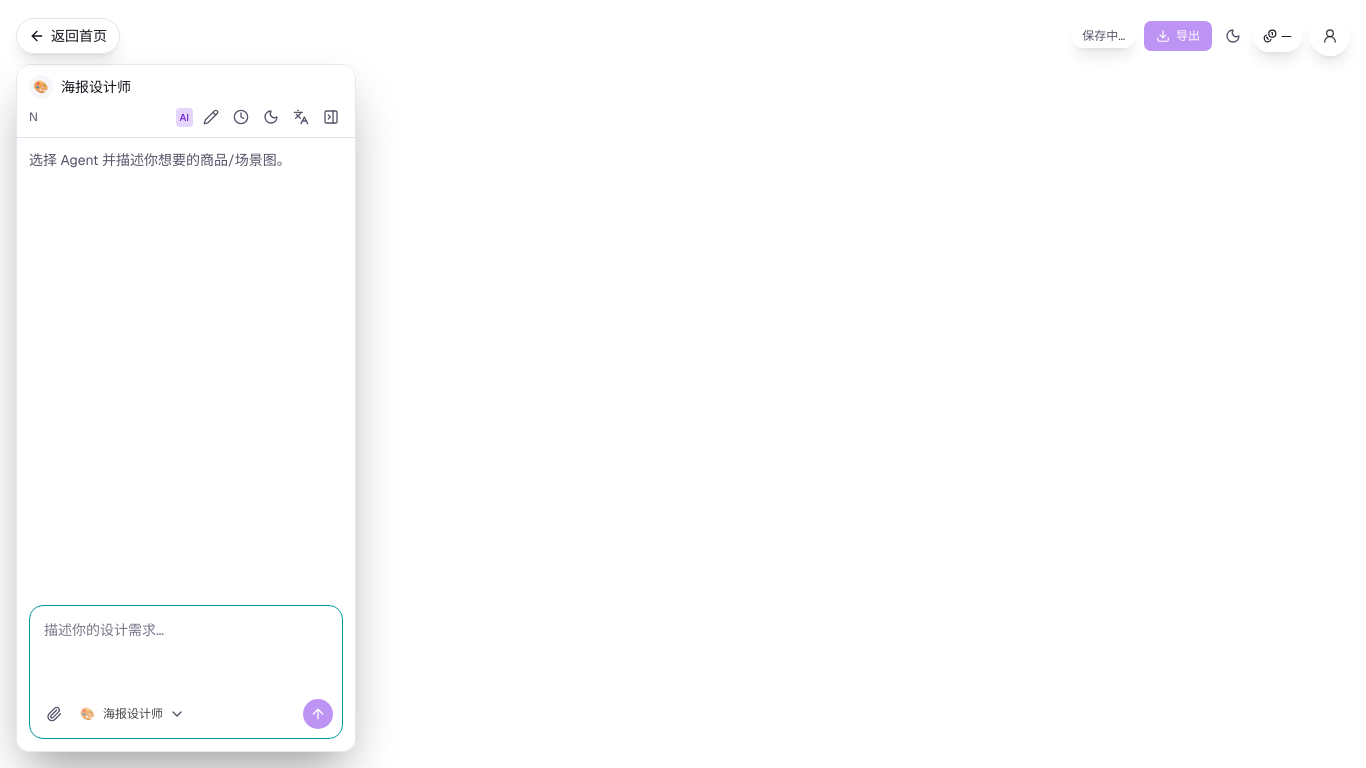
Test: canvas 页：会话下拉不含身份区块 › 打开下拉只有会话项，无个人信息 / 退出登录
The width and height of the screenshot is (1366, 768).
Click the button named "会话历史".
click(241, 117)  # box x1=229 y1=105 x2=253 y2=129
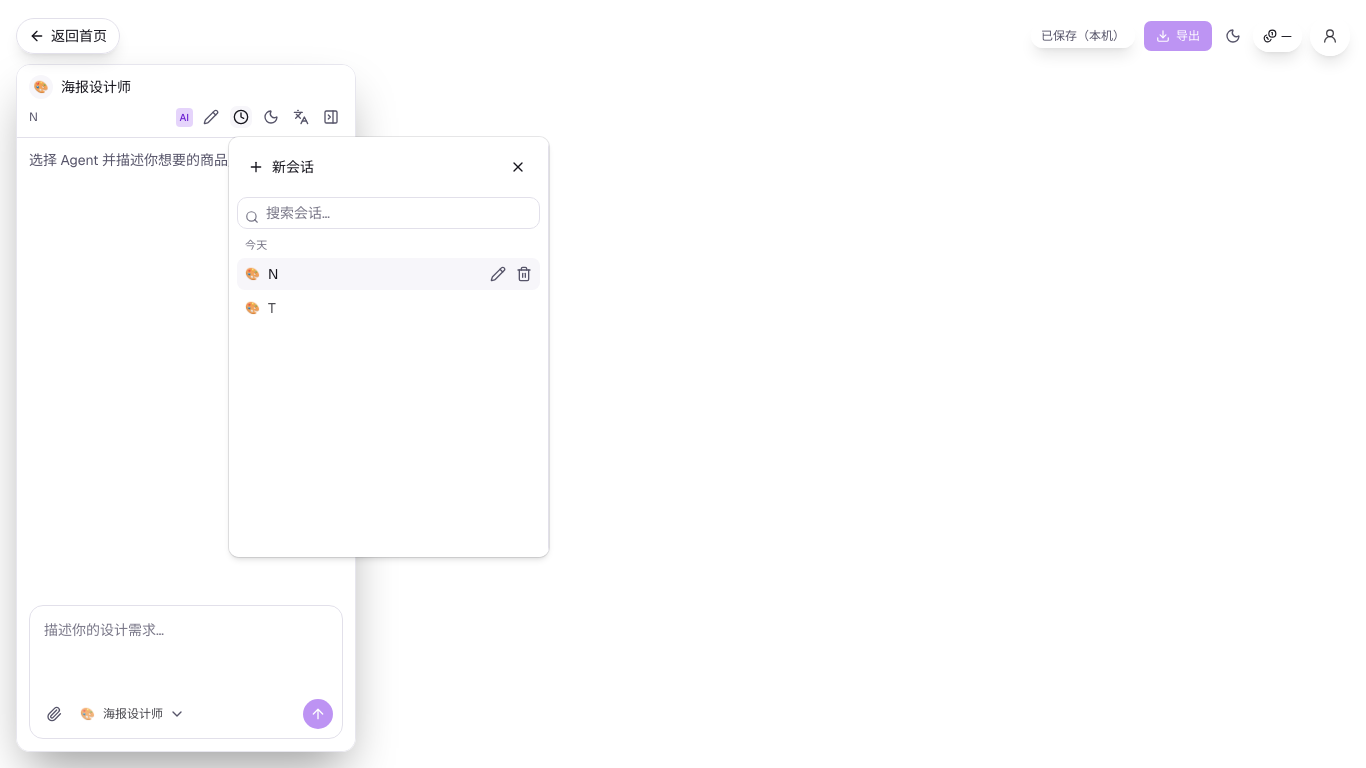
Now the button "🎨 T" is shown, box x1=237 y1=292 x2=540 y2=324
